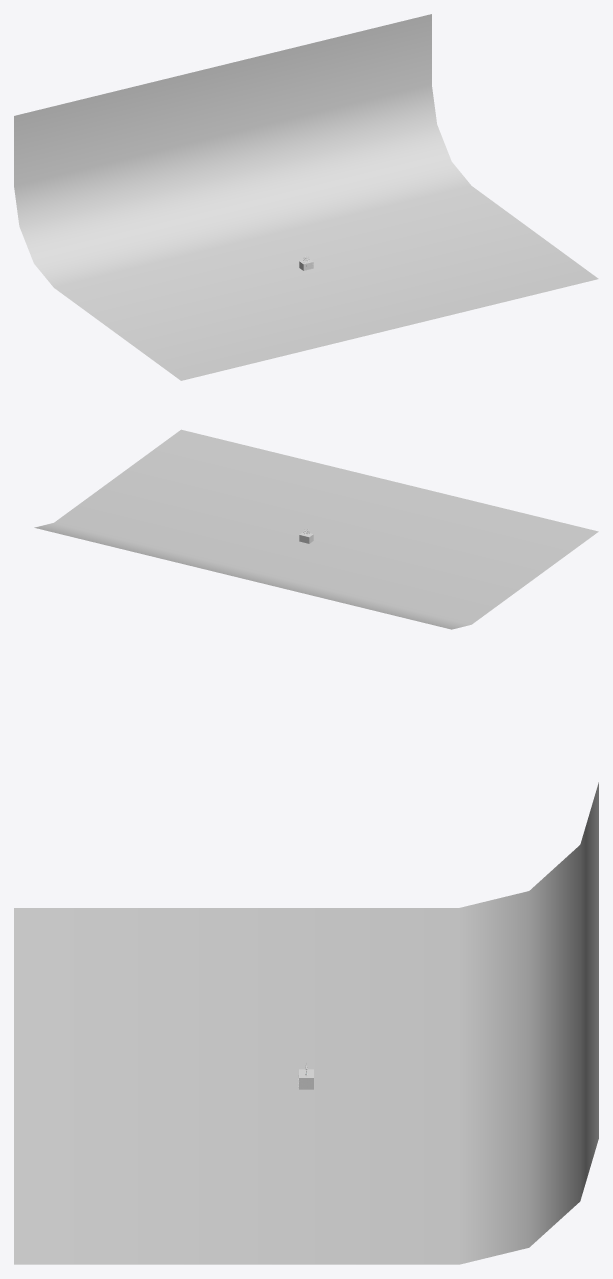
File: ChemistryLab.glb
3 views of the same model, one above another, from view 1: azimuth 30°, elevation 25°; view 2: azimuth 150°, elevation 25°; view 3: azimuth 270°, elevation 25° (orthographic). The views are drawn at different scales.
Parts seen in each view (by area): view 1: Plane; view 2: Plane; view 3: Plane.
Part boxes in pixels (<box>): Plane: <box>14,14,598,380</box>; Plane: <box>34,429,598,629</box>; Plane: <box>14,782,598,1264</box>.
Size of the model in its own units: 242 by 78.85 by 167.
14 materials, 1 textured.
